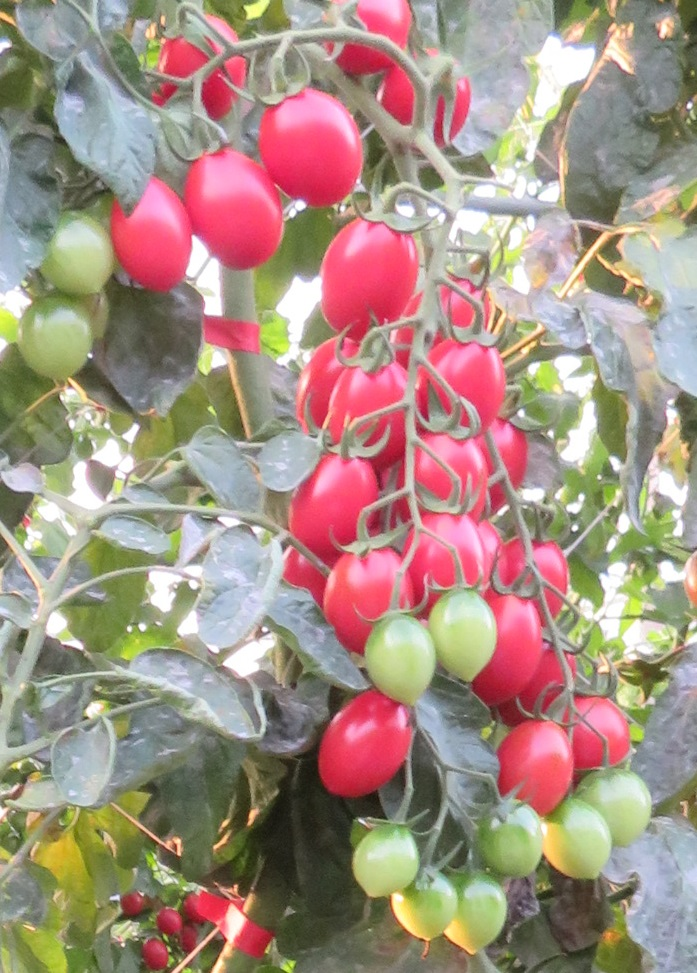green: (421, 583, 503, 688), (360, 605, 443, 706), (536, 800, 623, 886), (35, 208, 116, 299), (469, 800, 553, 884), (21, 299, 93, 393), (441, 871, 517, 958), (577, 767, 655, 845), (387, 868, 463, 946), (350, 822, 419, 899)
red: (256, 80, 375, 210), (316, 205, 422, 347), (183, 152, 292, 277), (310, 692, 421, 803), (111, 170, 194, 300), (294, 444, 380, 558), (415, 334, 516, 428), (159, 21, 246, 118), (386, 57, 474, 150), (332, 360, 412, 460), (323, 544, 424, 619), (497, 724, 573, 815), (404, 430, 497, 500), (403, 505, 484, 582), (329, 2, 413, 74), (498, 588, 543, 711), (569, 694, 639, 766), (501, 536, 570, 603), (138, 939, 169, 969), (153, 906, 183, 936), (117, 890, 147, 918)
